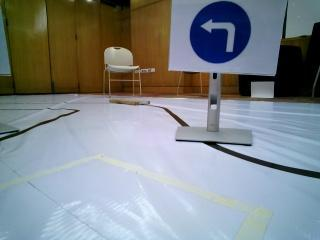left: (172, 2, 267, 77)
